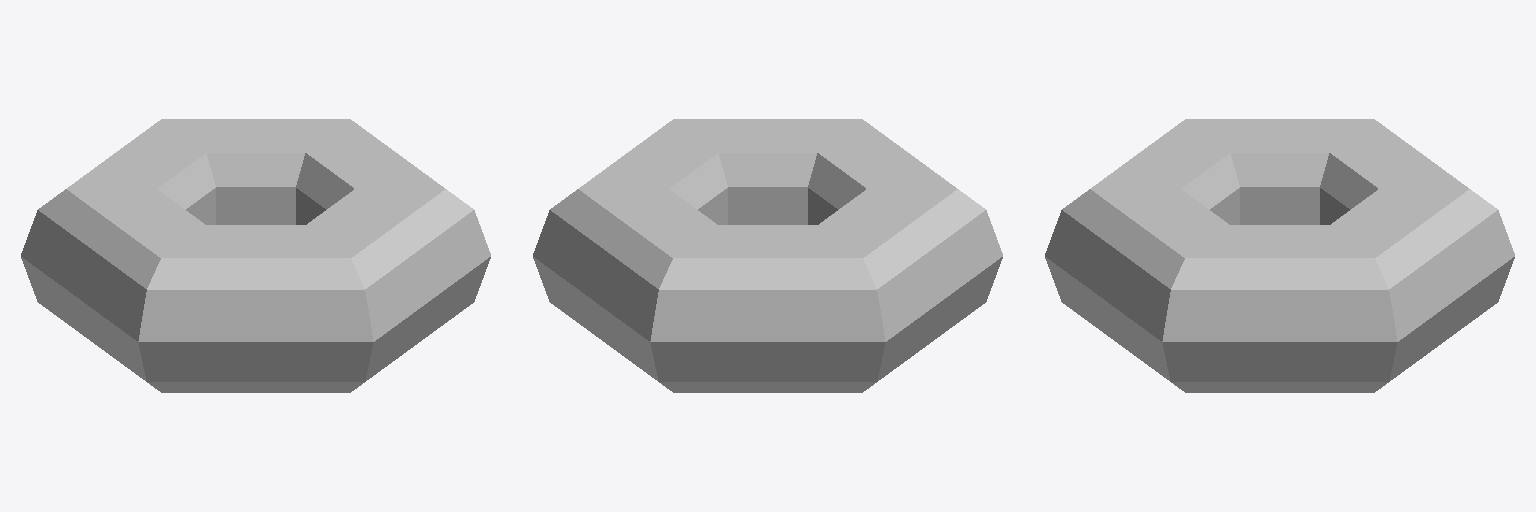
The model's file is donutChocolate.obj.
The picture shows the model from 3 angles: view 1: azimuth 30°, elevation 25°; view 2: azimuth 150°, elevation 25°; view 3: azimuth 270°, elevation 25°; orthographic projection.
Parts seen in each view (by area): view 1: donutChocolate; view 2: donutChocolate; view 3: donutChocolate.
Part boxes in pixels (x1,y1,x2,y2): donutChocolate: (21,119,490,392); donutChocolate: (533,119,1002,392); donutChocolate: (1045,119,1514,392).
Bounding box in the file's own units: 0.2451 × 0.0889 × 0.283.